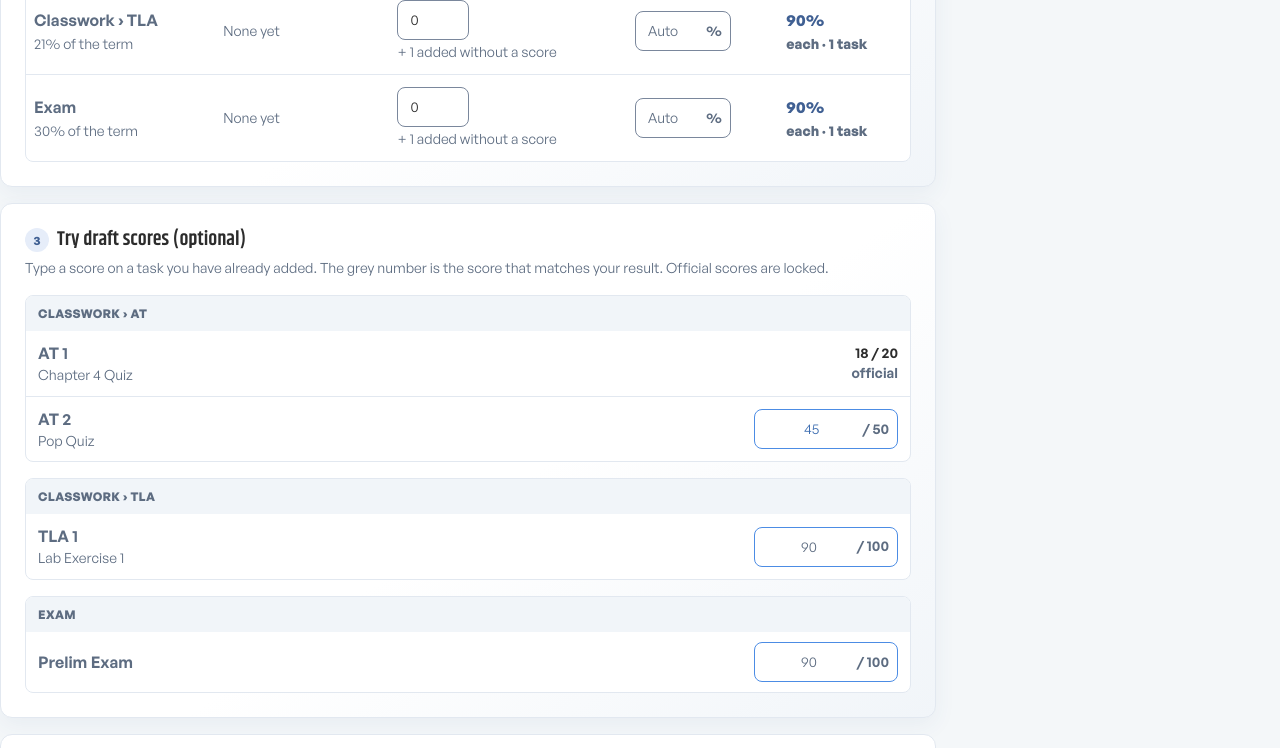
Test: draft scores › a valid score after an invalid one saves, but the message stays
(page scrolled)
In the field labelled "TLA 1 Lab Exercise 1 / 100": point(806, 547) [755,527,857,567], type "101"
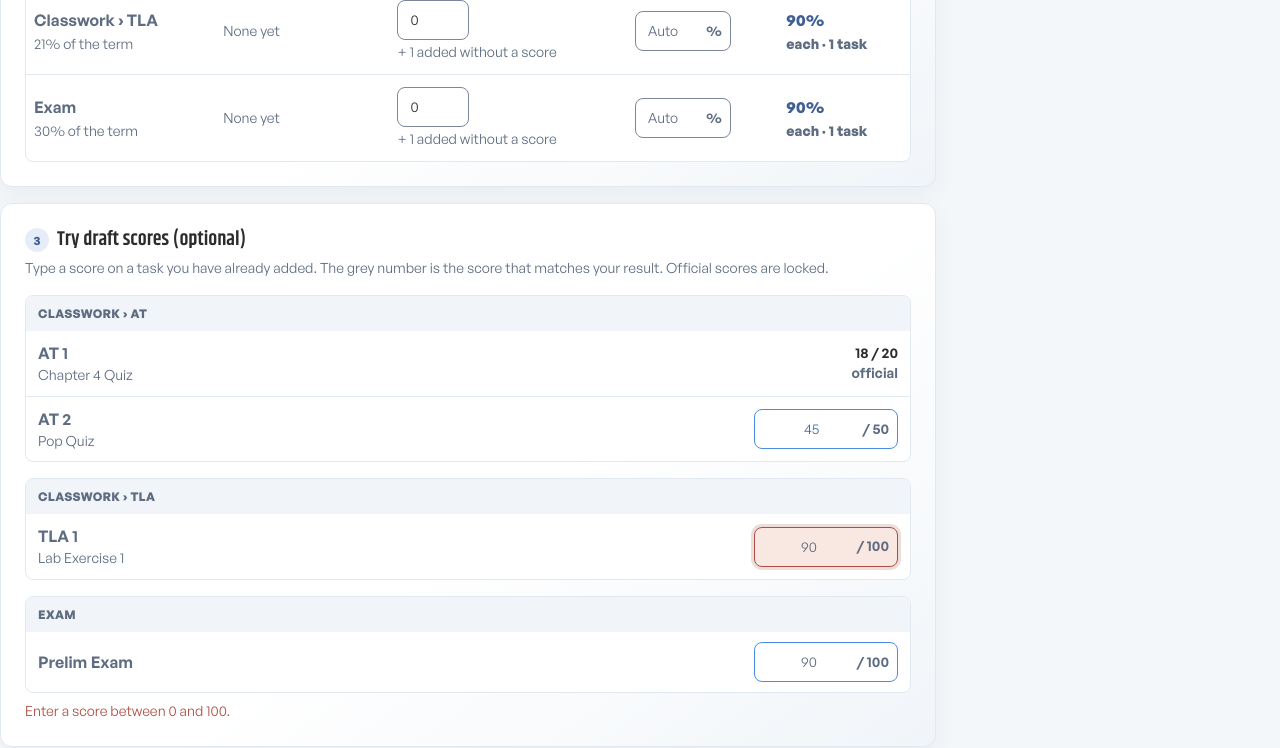
In the field labelled "TLA 1 Lab Exercise 1 / 100": point(806, 547) [755,527,857,567], type "100"
(page scrolled)
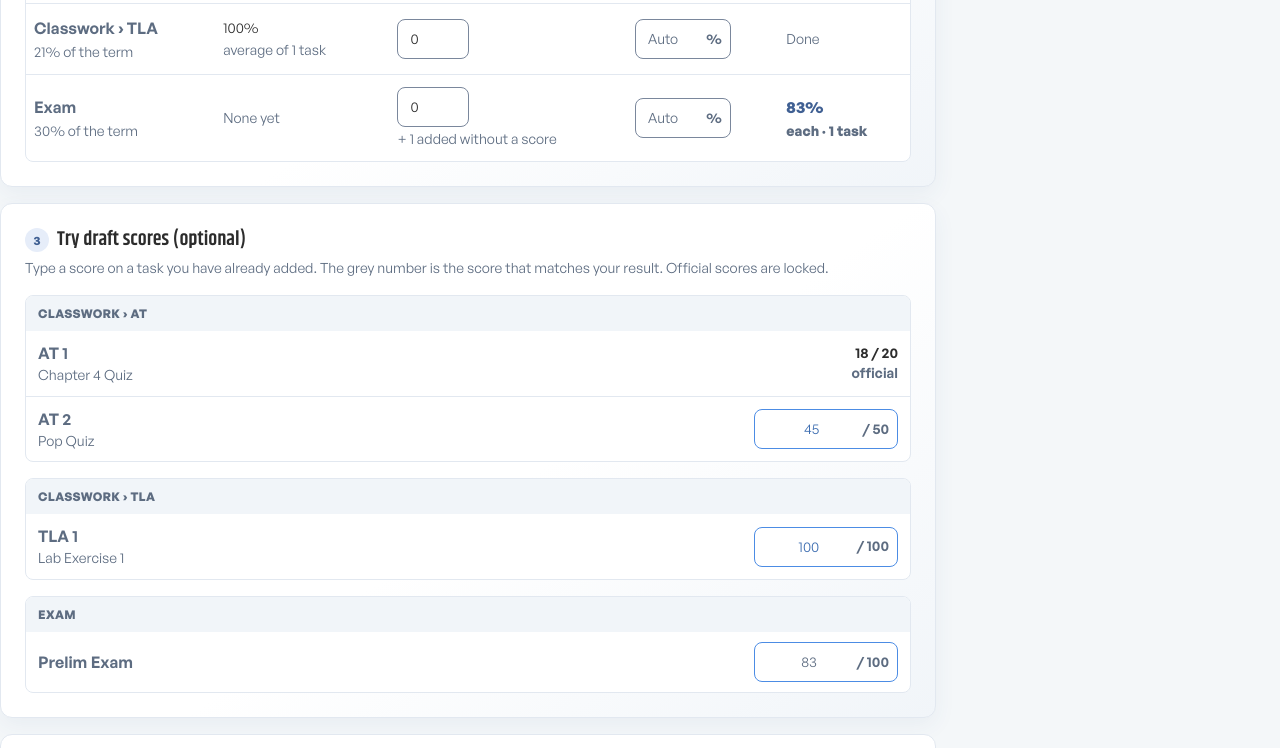
Now the message "Enter a score between 0 and 100." is gone
